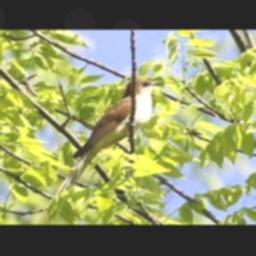Cuckoo: (54, 78, 164, 199)
